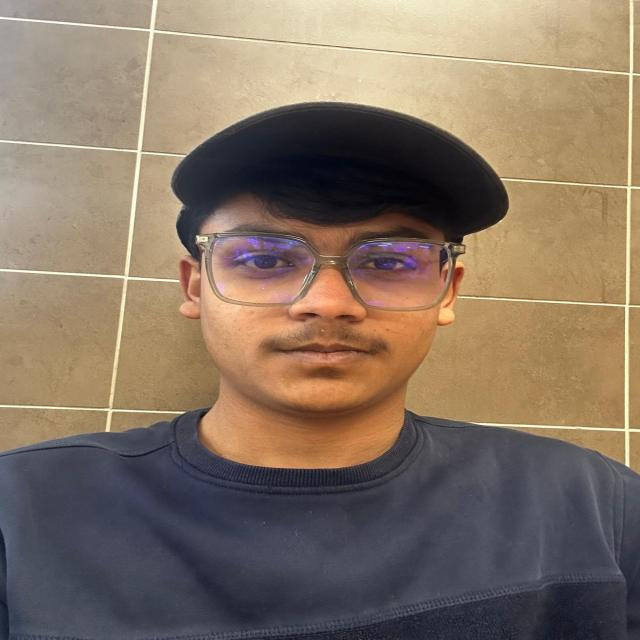cap: (144, 99, 507, 264)
